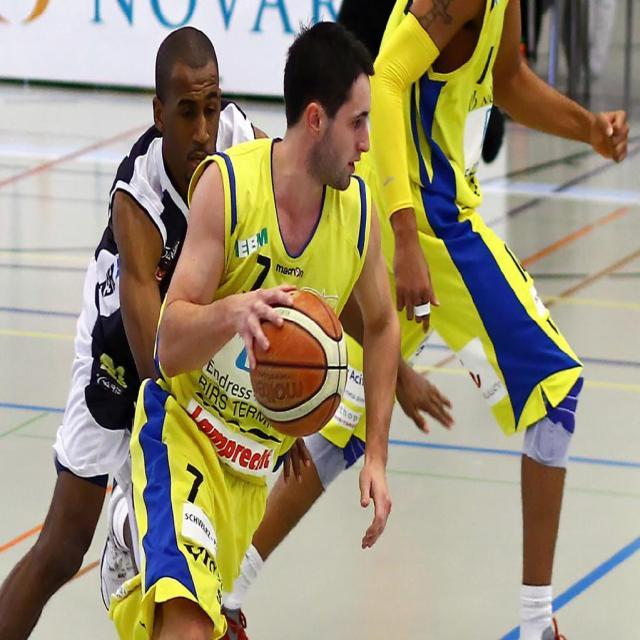rim: (252, 296, 349, 432)
